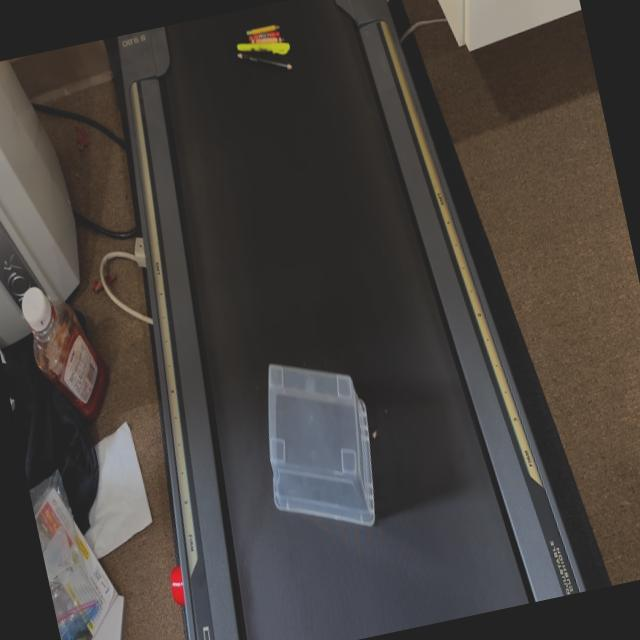Recycle: (246, 342, 392, 546)
Trash: (234, 38, 294, 82), (234, 30, 292, 64), (245, 19, 284, 46)
